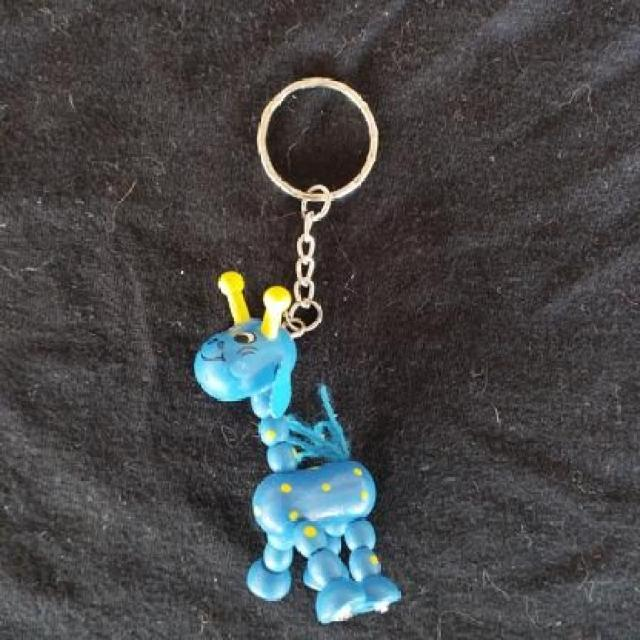Llavero: (192, 270, 402, 625)
